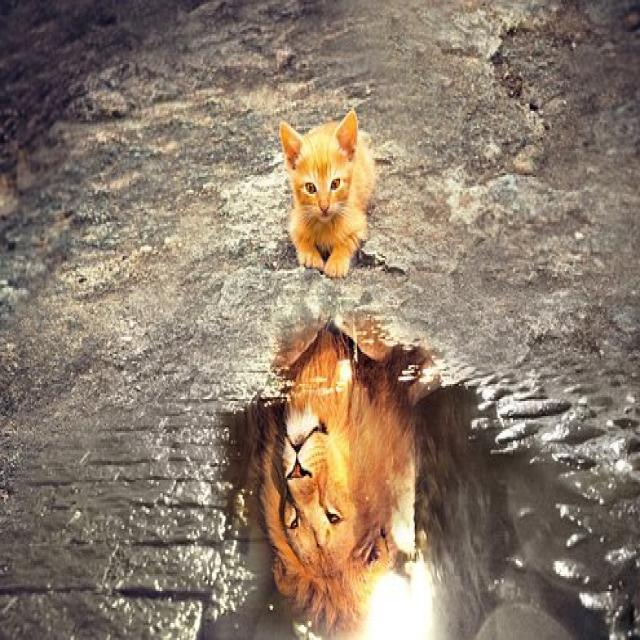Lion: (251, 311, 440, 638)
